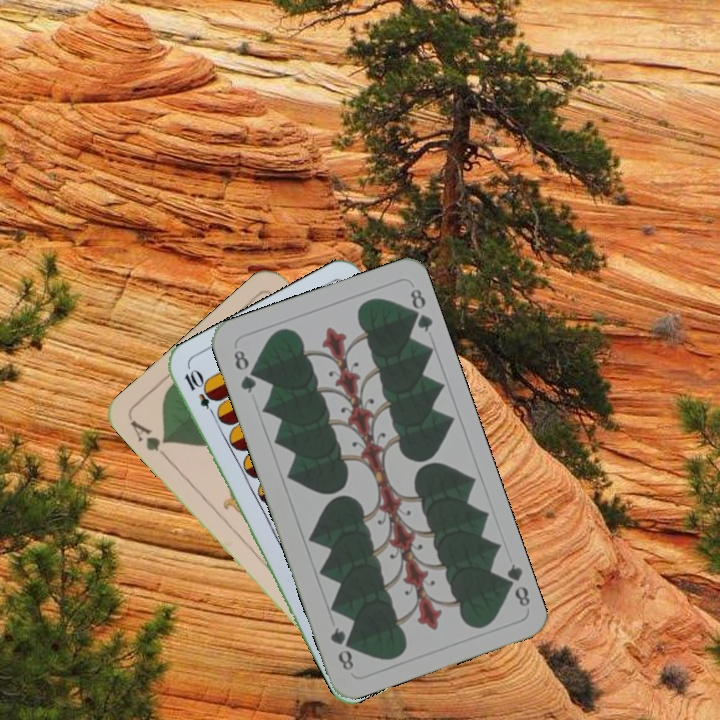E10: (180, 366, 221, 421)
G8: (497, 559, 533, 609), (229, 345, 259, 396)
GA: (125, 416, 172, 463)
